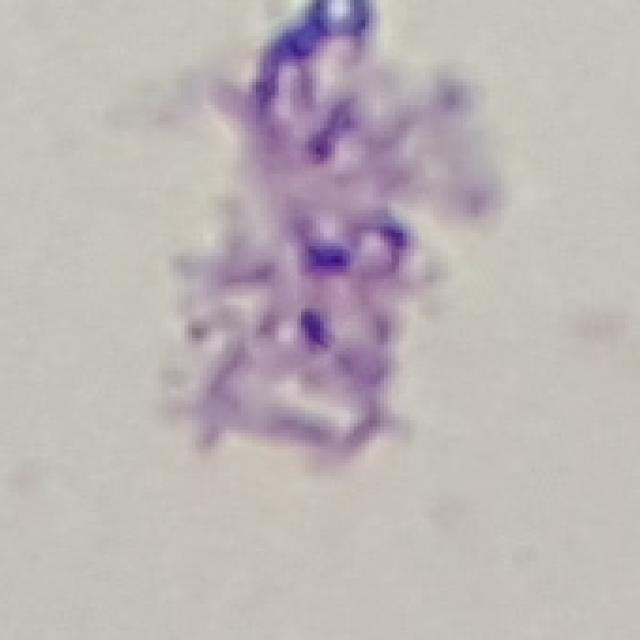non-sperm: (176, 13, 435, 452)
